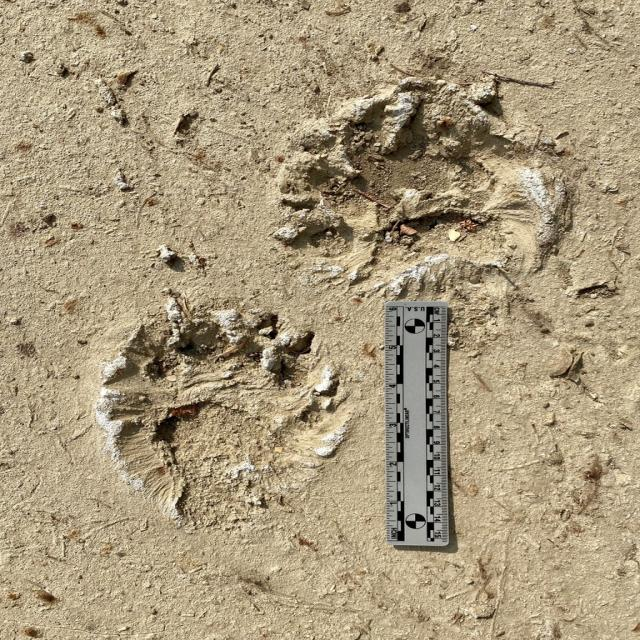bear: (270, 92, 588, 290), (95, 309, 348, 516)
